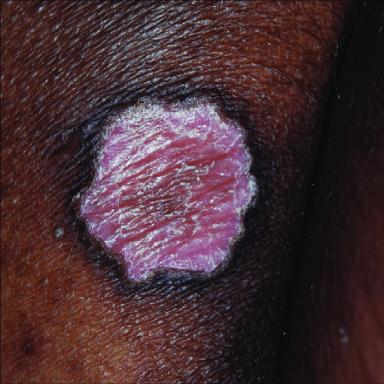Porokeratosis: (79, 99, 257, 282)
